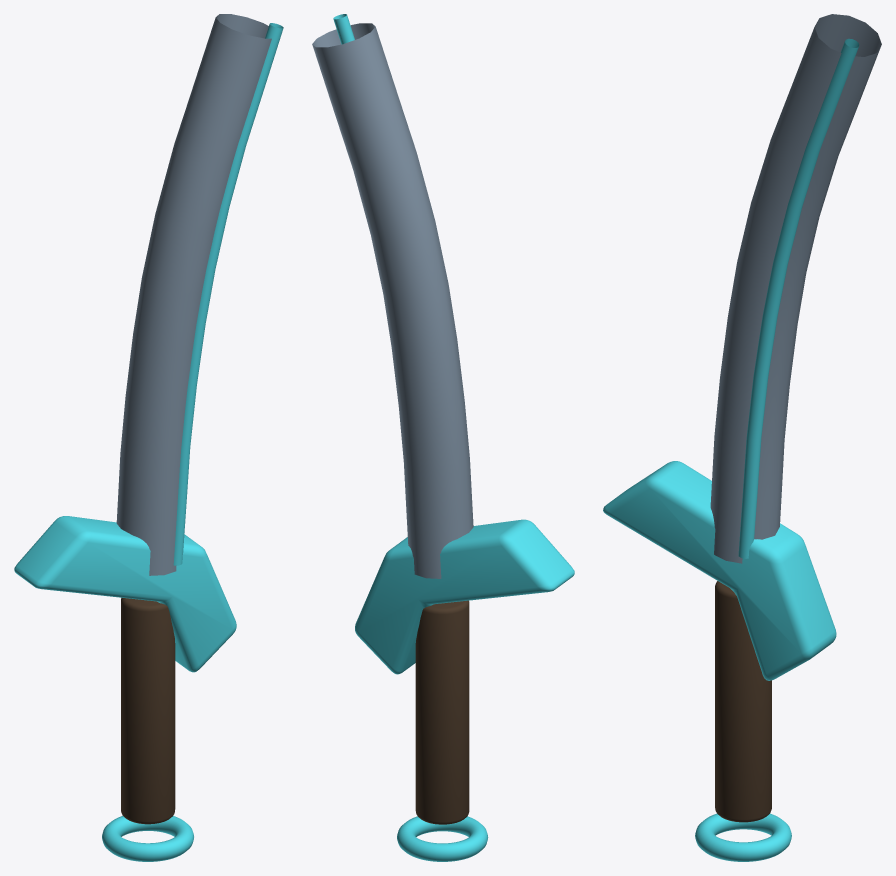
Rendered from sword_v2.glb.
The picture shows the model from 3 angles, left to right: view 1: azimuth 30°, elevation 25°; view 2: azimuth 150°, elevation 25°; view 3: azimuth 330°, elevation 25°; orthographic projection. The views are drawn at different scales.
Parts seen in each view (by area): view 1: CURVED_SABRE_BLADE_PRIMARY, KNUCKLE_GUARD_ACCENT, GRIP_SECONDARY, SABRE_EDGE_ACCENT, POMMEL_ACCENT; view 2: CURVED_SABRE_BLADE_PRIMARY, KNUCKLE_GUARD_ACCENT, GRIP_SECONDARY, POMMEL_ACCENT; view 3: CURVED_SABRE_BLADE_PRIMARY, KNUCKLE_GUARD_ACCENT, GRIP_SECONDARY, SABRE_EDGE_ACCENT, POMMEL_ACCENT.
Boxes of the visible parts, x1,y1,x2,y2 form: CURVED_SABRE_BLADE_PRIMARY: (116, 14, 271, 575); KNUCKLE_GUARD_ACCENT: (14, 516, 236, 672); GRIP_SECONDARY: (121, 597, 175, 824); SABRE_EDGE_ACCENT: (173, 23, 283, 565); POMMEL_ACCENT: (102, 816, 193, 861); CURVED_SABRE_BLADE_PRIMARY: (312, 23, 473, 578); KNUCKLE_GUARD_ACCENT: (355, 519, 574, 674); GRIP_SECONDARY: (415, 600, 469, 824); POMMEL_ACCENT: (397, 816, 488, 861); CURVED_SABRE_BLADE_PRIMARY: (710, 14, 881, 563); KNUCKLE_GUARD_ACCENT: (603, 461, 836, 680); GRIP_SECONDARY: (715, 581, 771, 822); SABRE_EDGE_ACCENT: (738, 38, 859, 558); POMMEL_ACCENT: (695, 813, 791, 861).
Bounding box in the file's own units: 1.38 × 4.24 × 0.441.
